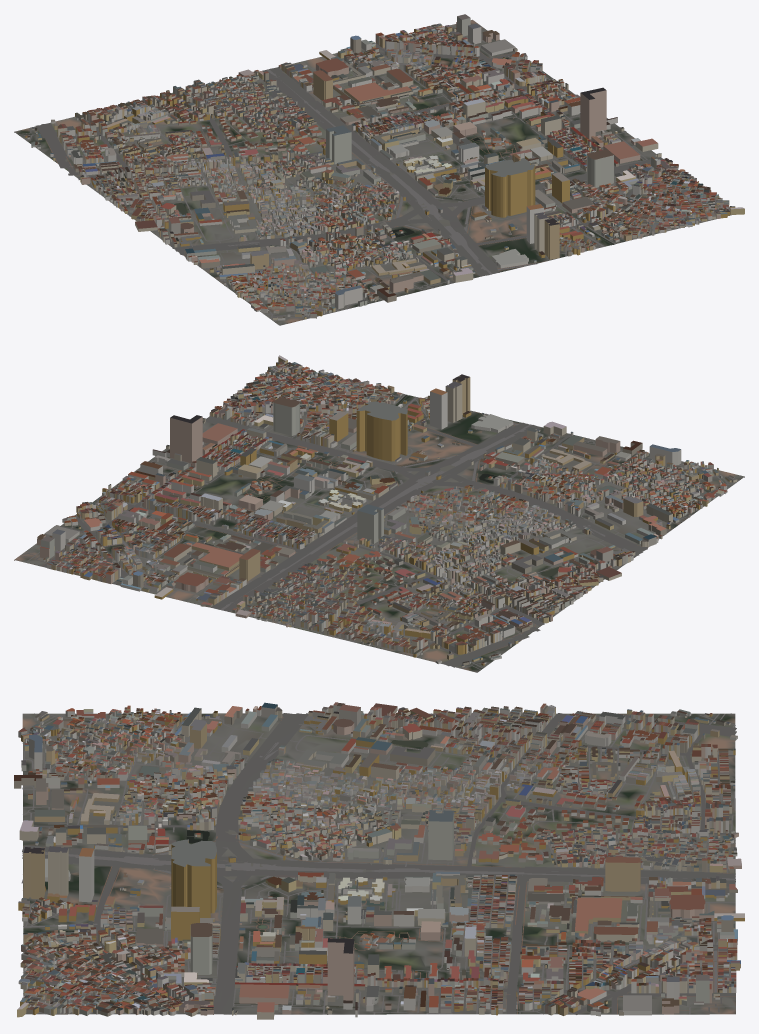
3 renders of one model, top to bottom at view 1: azimuth 30°, elevation 25°; view 2: azimuth 150°, elevation 25°; view 3: azimuth 270°, elevation 25°, orthographic. The views are drawn at different scales.
Visible parts, largest first — view 1: buildings, ground, roads; view 2: buildings, ground, roads; view 3: buildings, ground, roads, water.
Part boxes in pixels (x1,y1,x2,y2): buildings: (25, 14, 744, 320); ground: (14, 19, 732, 325); roads: (15, 26, 730, 322); buildings: (37, 355, 737, 667); ground: (14, 374, 744, 672); roads: (24, 376, 740, 672); buildings: (14, 702, 744, 1019); ground: (22, 713, 735, 1014); roads: (21, 711, 736, 1014); water: (23, 740, 607, 1007).
Size of the model in its own units: 1452 by 122 by 1438.
